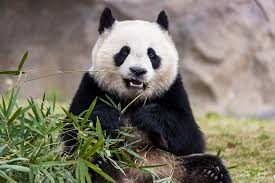panda: (49, 7, 224, 179)
